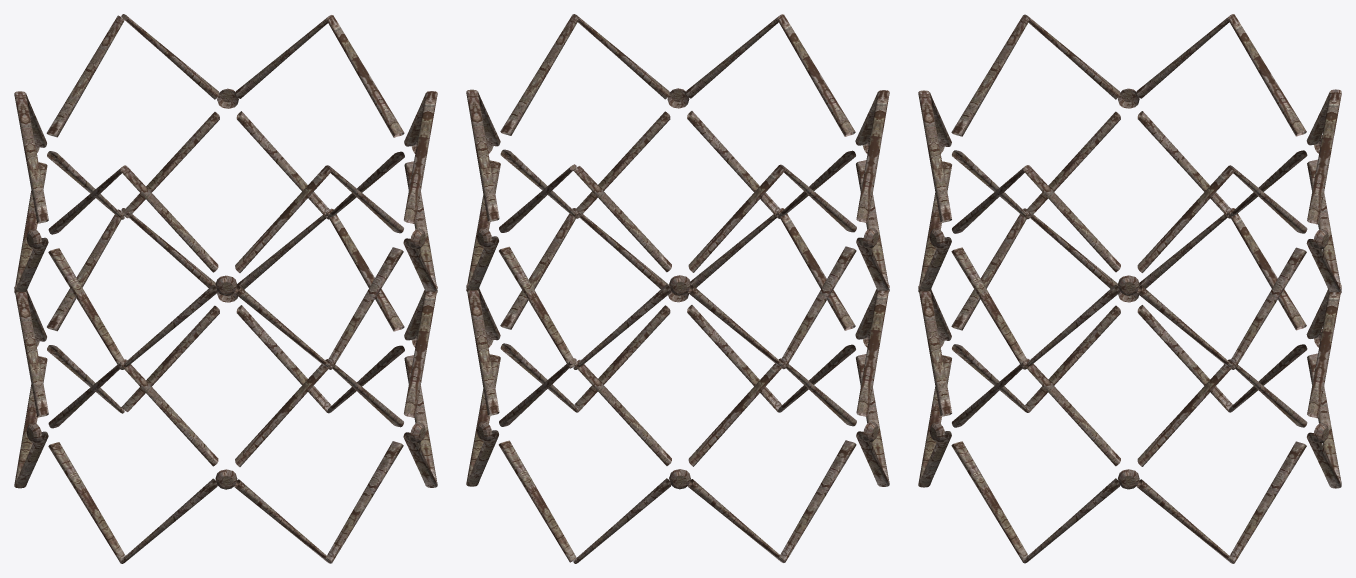
The model's file is meshrings.FBX.
The picture shows the model from 3 angles, left to right: view 1: azimuth 30°, elevation 25°; view 2: azimuth 150°, elevation 25°; view 3: azimuth 270°, elevation 25°; orthographic projection.
Parts seen in each view (by area): view 1: meshrings; view 2: meshrings; view 3: meshrings.
Boxes of the visible parts, box(x1,y1,x2,y2) form: meshrings: box(14, 14, 437, 563); meshrings: box(466, 14, 889, 563); meshrings: box(918, 14, 1341, 563).
Size of the model in its own units: 7.77 by 7.25 by 7.49.
